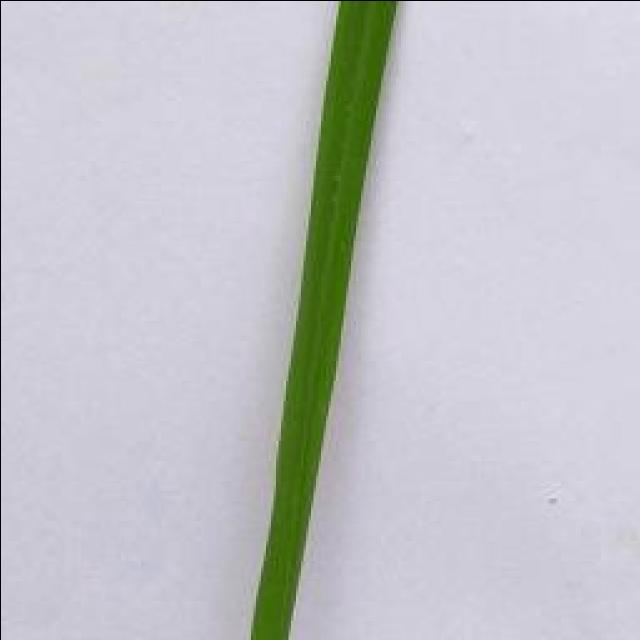Healthy: (249, 0, 395, 640)
